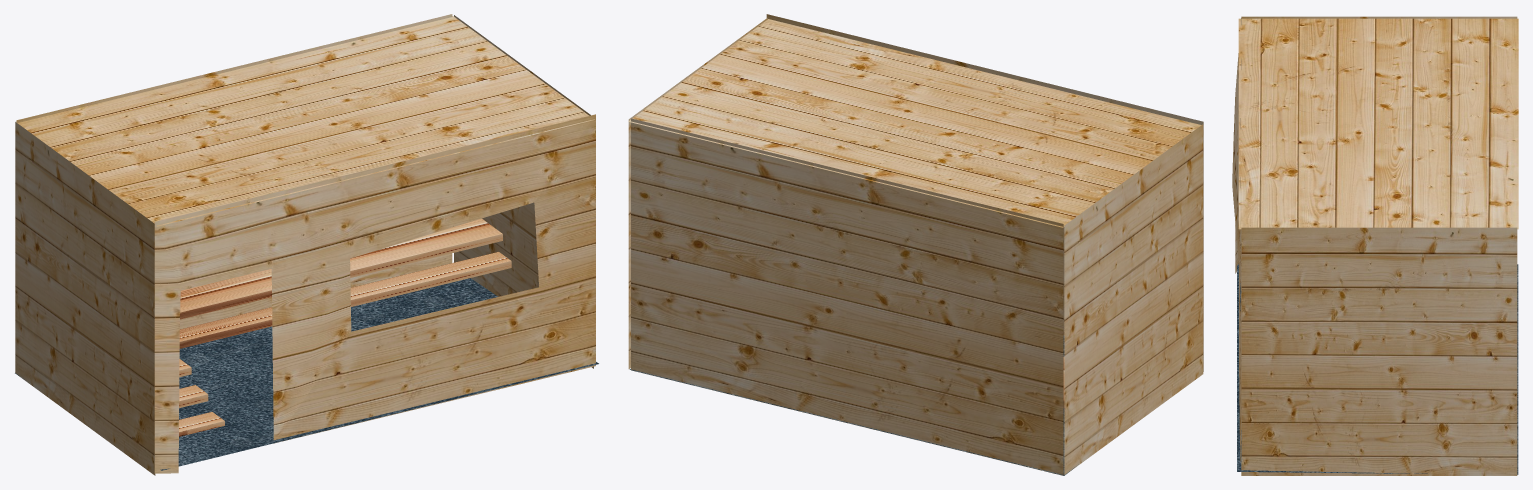
File: SaunaSet.fbx
3 renders of one model, left to right at view 1: azimuth 30°, elevation 25°; view 2: azimuth 150°, elevation 25°; view 3: azimuth 270°, elevation 25°, orthographic.
Visible parts, largest first — view 1: Plane.004; view 2: Plane.004; view 3: Plane.004.
Boxes of the visible parts, x1,y1,x2,y2 form: Plane.004: [15, 14, 598, 475]; Plane.004: [628, 14, 1203, 475]; Plane.004: [1232, 16, 1518, 475].
Bounding box in the file's own units: 1108 × 610 × 630.
